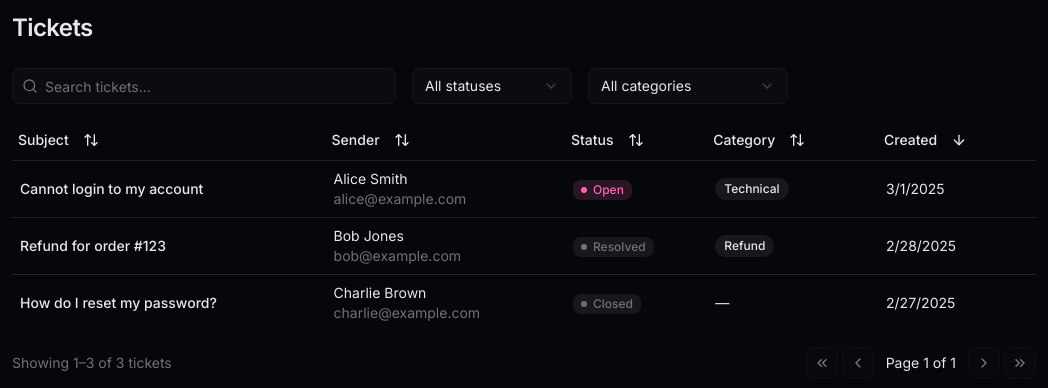
TicketsPage › Clear filters › AC1 — visible when needed › CASE-f1048c79850a: is visible when only a status filter is active
Check: the link "Cannot login to my account" is shown, box top-left (20, 180), bottom-right (203, 196)
Click the dropdown labelled "All statuses": point(492, 86) top-left (412, 68), bottom-right (572, 104)
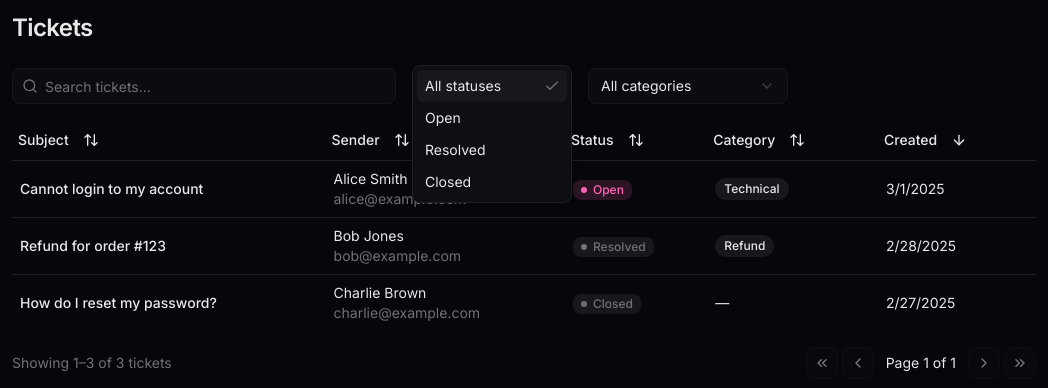
Click the option "Open": point(443, 118) top-left (425, 109), bottom-right (461, 126)
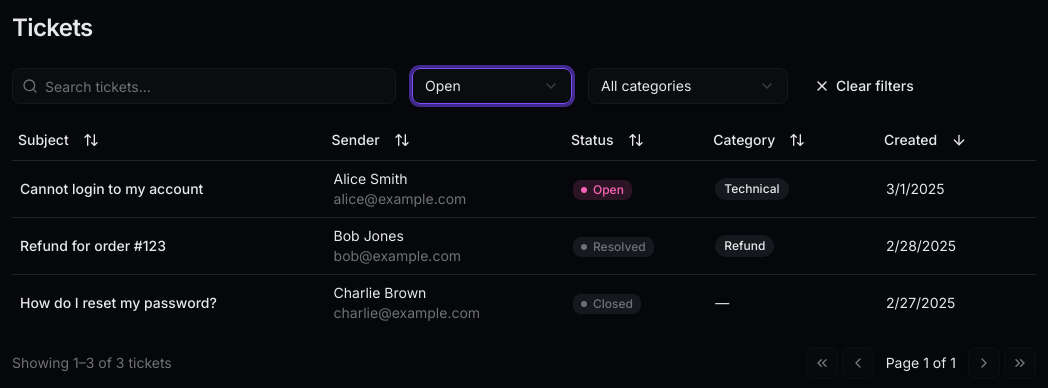
Check: the button "Clear filters" is shown, box top-left (804, 70), bottom-right (924, 102)
